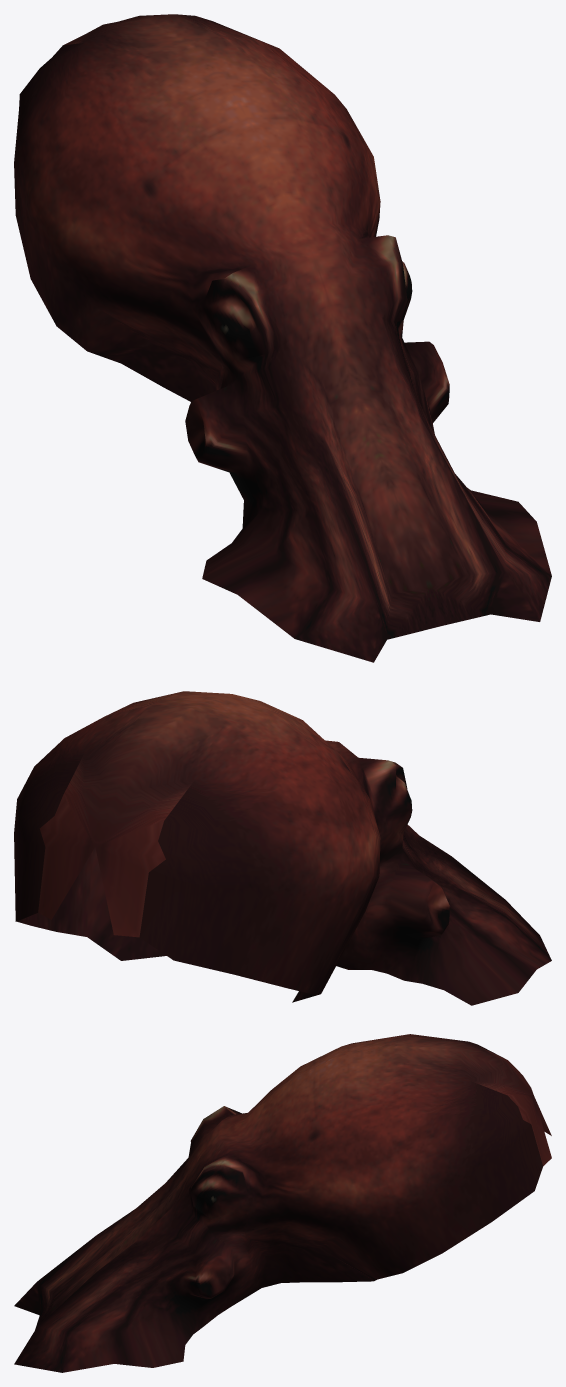
Rendered from zy_noani1.fbx.
3 renders of one model, top to bottom at view 1: azimuth 30°, elevation 25°; view 2: azimuth 150°, elevation 25°; view 3: azimuth 270°, elevation 25°, orthographic. The views are drawn at different scales.
Parts seen in each view (by area): view 1: zy_noani1; view 2: zy_noani1; view 3: zy_noani1.
Boxes of the visible parts, x1,y1,x2,y2 form: zy_noani1: (14, 14, 551, 662); zy_noani1: (14, 691, 551, 1005); zy_noani1: (14, 1034, 551, 1372).
Size of the model in its own units: 519 by 630 by 1064.
